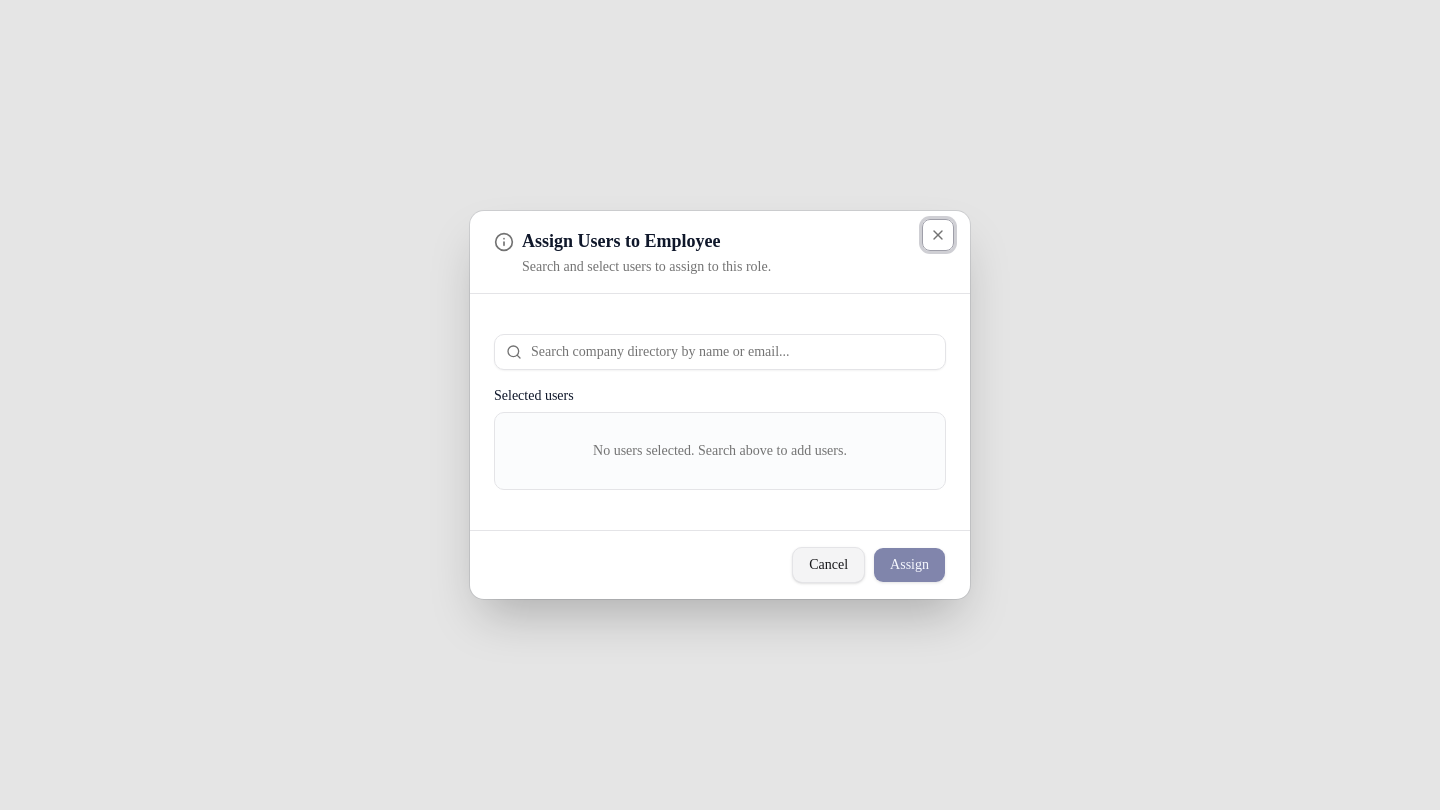
Test case: AddUsersToRoleModal › searches for users when typing
Type "Jane" into the field with placeholder "Search company directory by name or email..." at (720, 352), box [494,334,946,370]
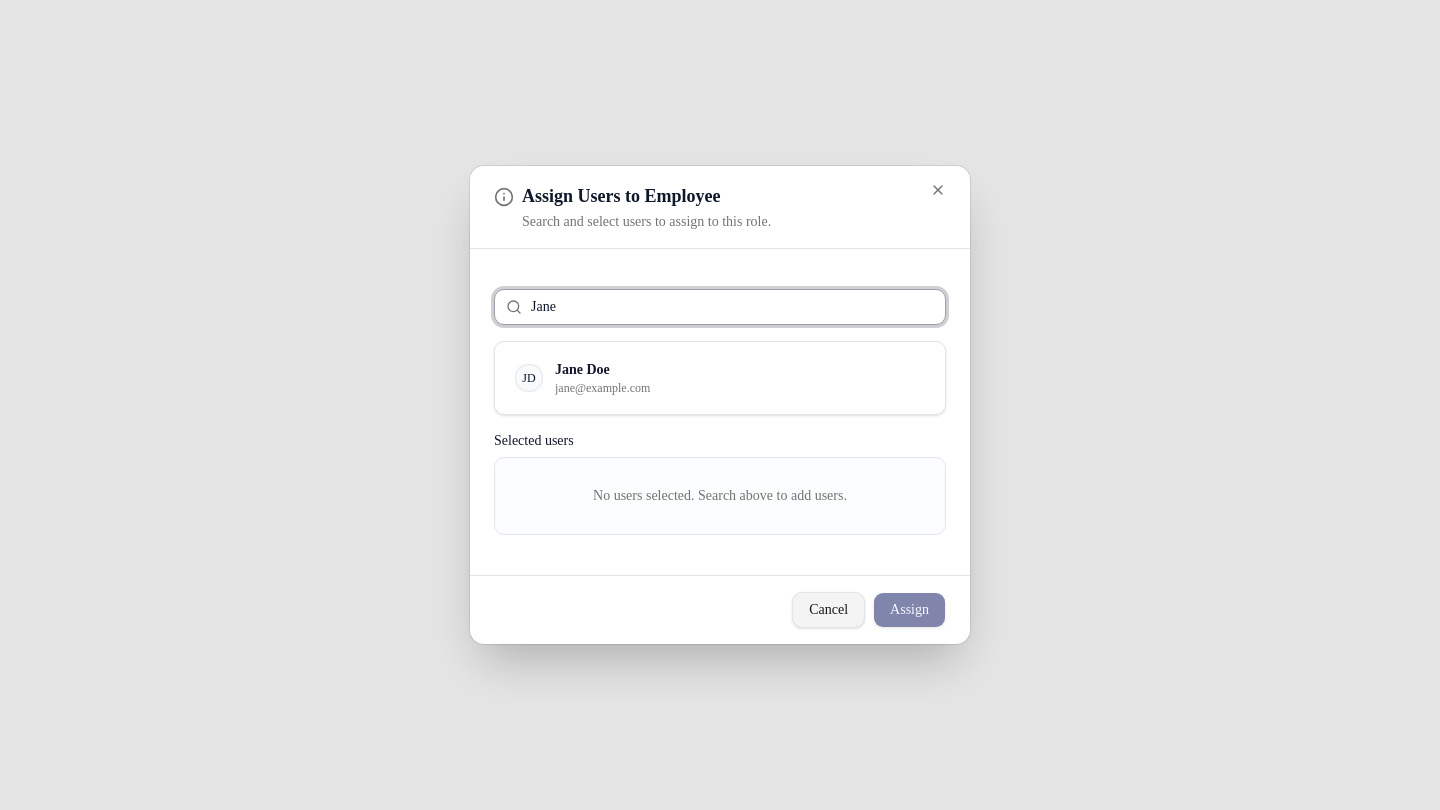
Expected: the text "Jane Doe" is shown, [555,362,610,377]
